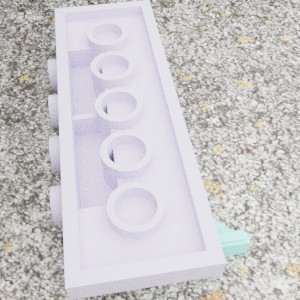lego: (47, 0, 226, 300), (111, 158, 250, 271)
